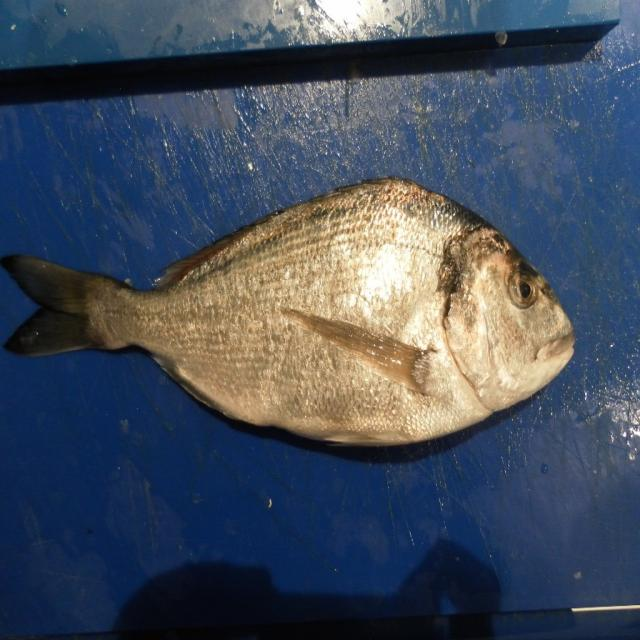Gilt-Head-Bream-c-ipura-: (0, 178, 576, 450)
